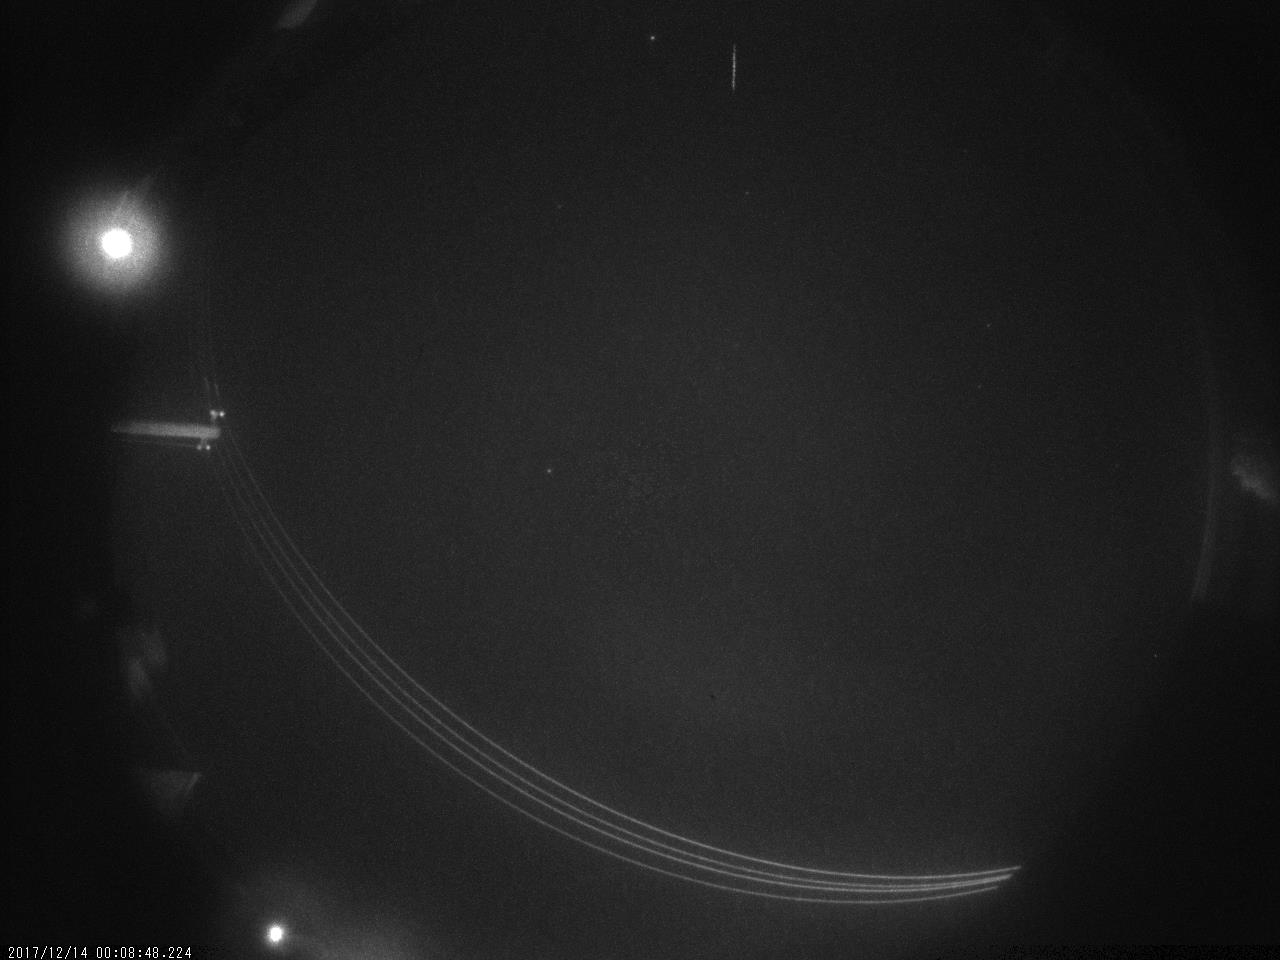meteor: (707, 26, 759, 106)
